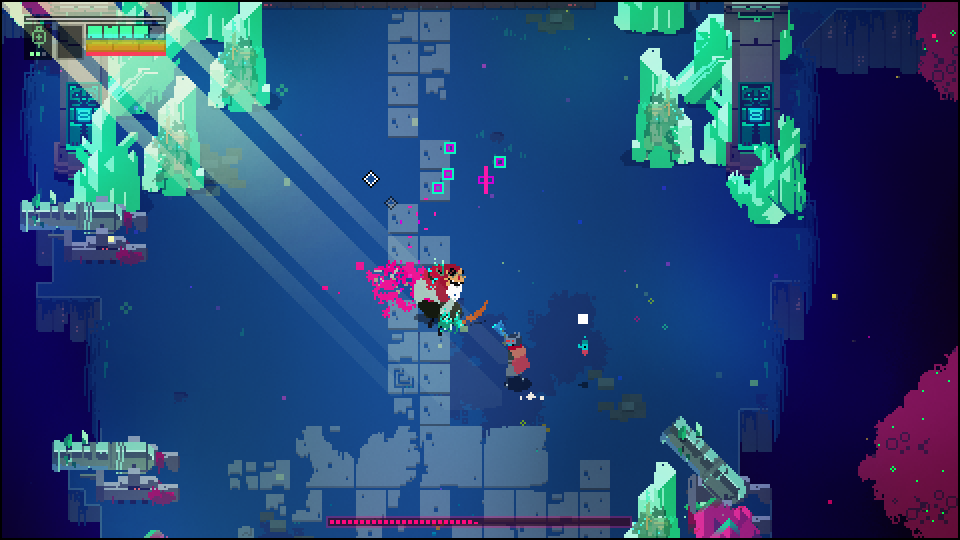hanged_man: (401, 239, 489, 335)
player: (488, 319, 538, 392)
